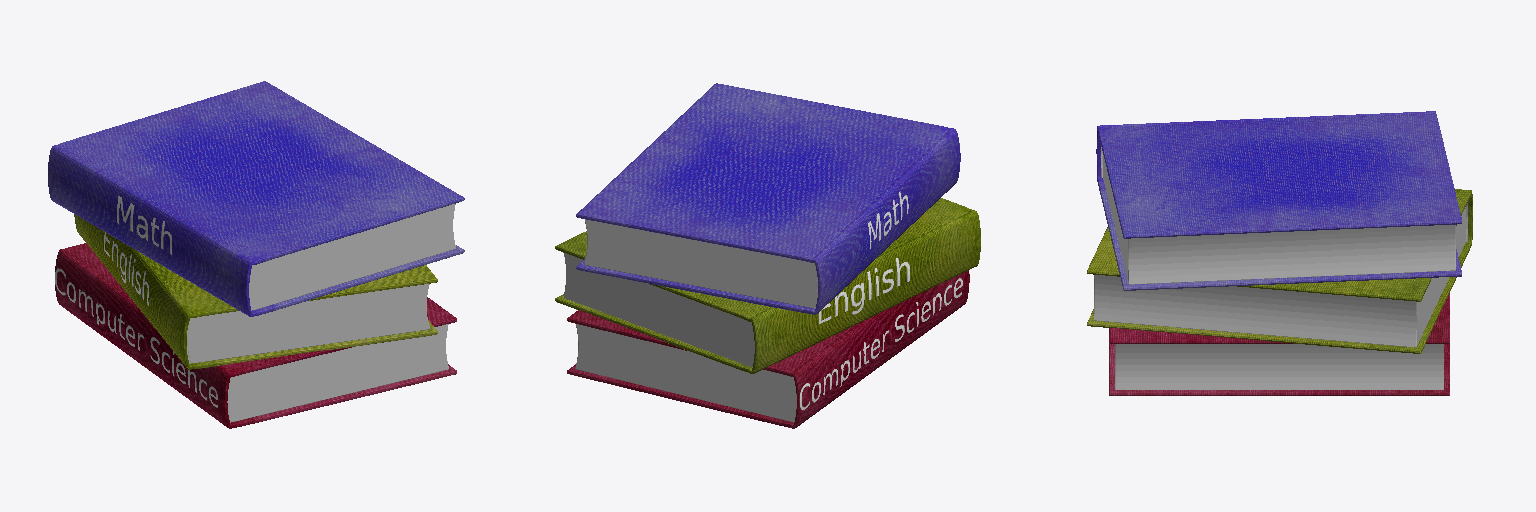
3 renders of one model, left to right at view 1: azimuth 30°, elevation 25°; view 2: azimuth 150°, elevation 25°; view 3: azimuth 270°, elevation 25°, orthographic.
Visible parts, largest first — view 1: cover_cover.003, cover_cover, pages_pages.002, cover_cover.002, pages_pages, pages_pages.003; view 2: cover_cover.003, cover_cover.002, cover_cover, pages_pages.003, pages_pages, pages_pages.002; view 3: cover_cover.003, pages_pages.003, pages_pages.002, pages_pages, cover_cover.002, cover_cover.
Boxes of the visible parts, <box> form: cover_cover.003: <box>48,81,464,316</box>; cover_cover: <box>55,243,456,428</box>; pages_pages.002: <box>187,284,429,362</box>; cover_cover.002: <box>74,214,437,369</box>; pages_pages: <box>227,324,448,421</box>; pages_pages.003: <box>249,204,455,309</box>; cover_cover.003: <box>576,83,960,314</box>; cover_cover.002: <box>555,198,980,373</box>; cover_cover: <box>567,270,969,428</box>; pages_pages.003: <box>584,219,817,307</box>; pages_pages: <box>575,324,796,421</box>; pages_pages.002: <box>563,253,754,366</box>; cover_cover.003: <box>1096,111,1461,290</box>; pages_pages.003: <box>1103,155,1455,284</box>; pages_pages.002: <box>1094,207,1465,347</box>; pages_pages: <box>1115,344,1443,389</box>; cover_cover.002: <box>1087,189,1472,353</box>; cover_cover: <box>1109,293,1449,395</box>.
Size of the model in its own units: 2.61 by 1.47 by 3.05.
5 materials, 3 textured.